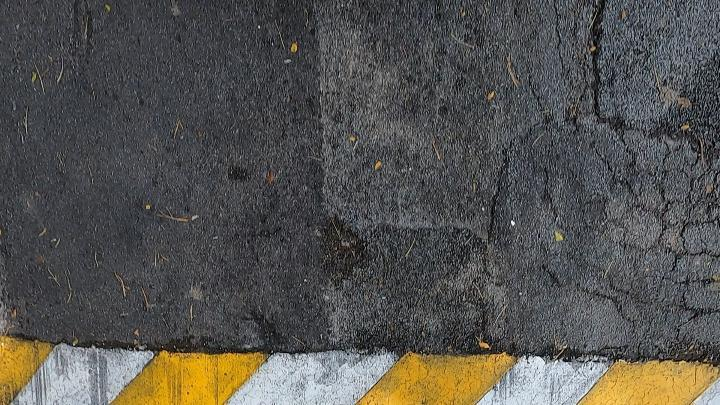Crack: (518, 1, 629, 148), (612, 170, 720, 318), (578, 0, 625, 131), (648, 176, 719, 257), (674, 251, 719, 318), (479, 153, 510, 244), (487, 155, 507, 239), (552, 0, 578, 45), (524, 108, 553, 144), (622, 172, 665, 189), (566, 104, 578, 124), (615, 177, 617, 181)
Lane: (0, 336, 719, 404), (0, 342, 720, 405)
